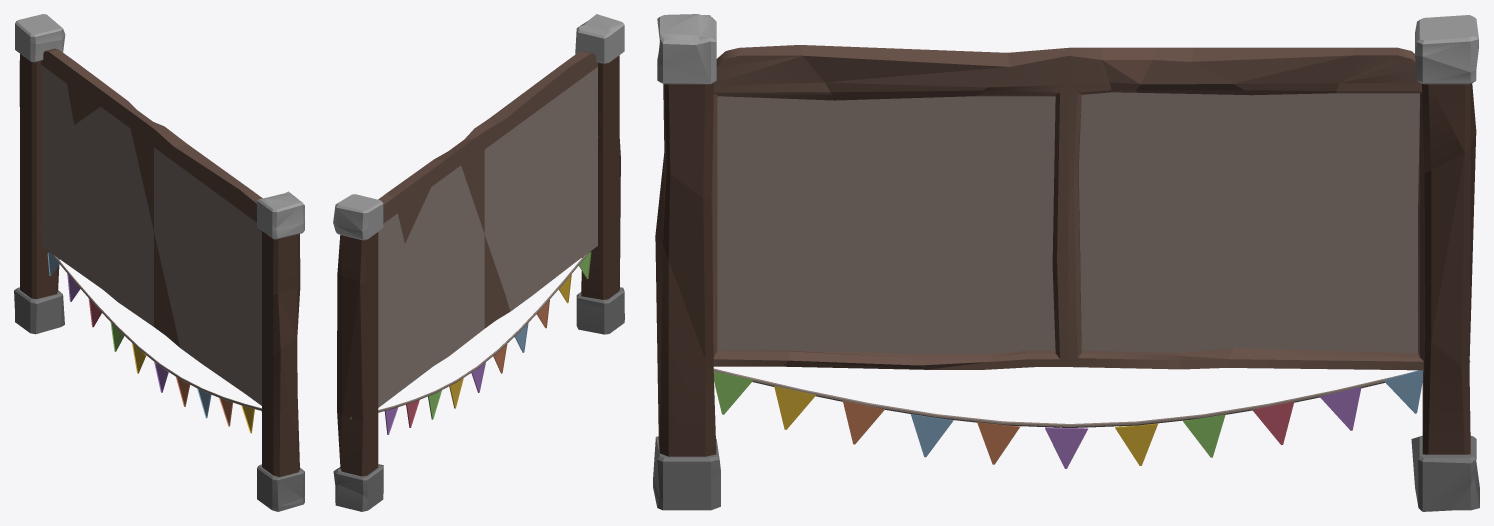
The model's file is scoreboard.fbx.
The picture shows the model from 3 angles, left to right: view 1: azimuth 30°, elevation 25°; view 2: azimuth 150°, elevation 25°; view 3: azimuth 270°, elevation 25°; orthographic projection. The views are drawn at different scales.
Parts seen in each view (by area): view 1: polySurface15, polySurface11; view 2: polySurface15, polySurface11; view 3: polySurface15, polySurface11.
Boxes of the visible parts, x1,y1,x2,y2 form: polySurface15: (14,14,304,511); polySurface11: (47,251,261,433); polySurface15: (333,14,624,511); polySurface11: (350,251,591,434); polySurface15: (653,14,1479,511); polySurface11: (713,360,1470,468).
Size of the model in its own units: 20.48 by 168 by 266.
